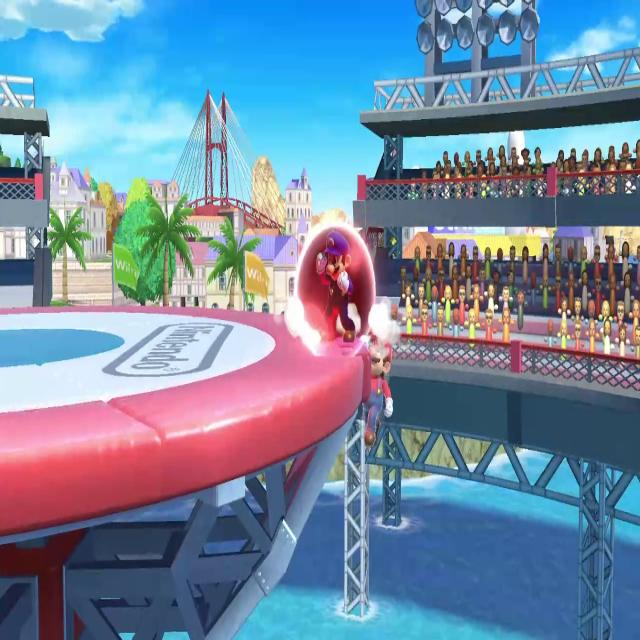Mario: (312, 221, 358, 345)
Mario-LH: (360, 316, 398, 453)
